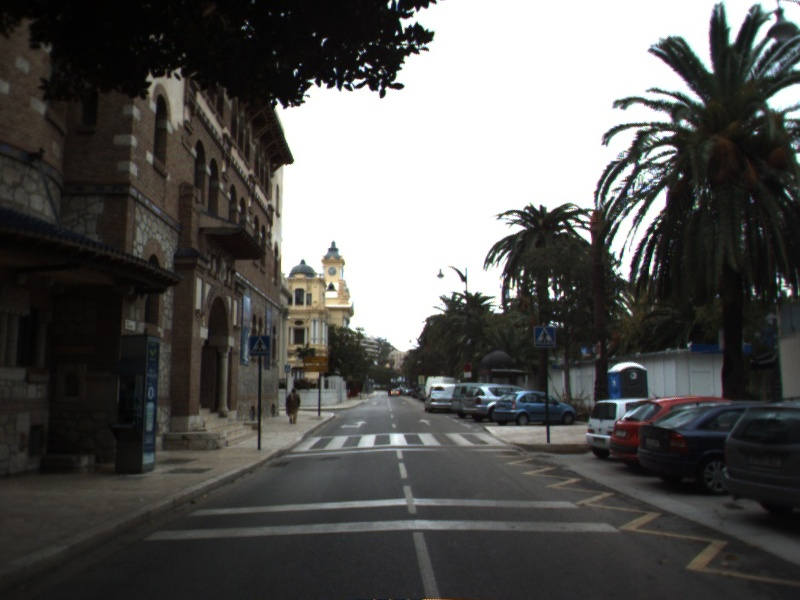STRAIGHT: (417, 417, 433, 427)
STRAIGHT_LEFT: (337, 418, 368, 430)
